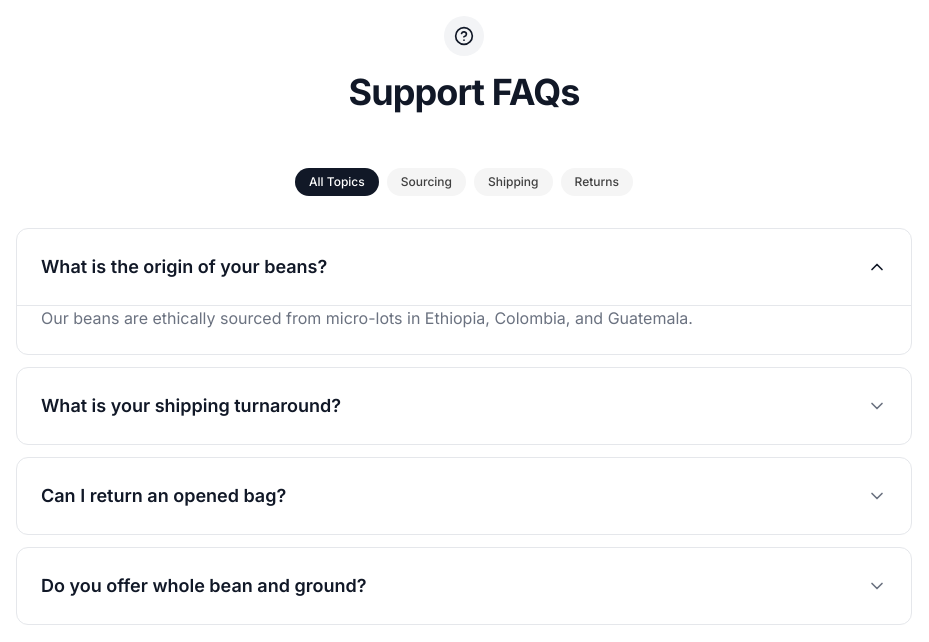
Test: Adversarial Stress Verification: SectionRenderer & Content Interactivity (Challenger M3-2) › FaqAccordion Interactivity & Keyboard Stress › single-open mode: index 0 open by default, clicking item 1 expands it and collapses item 0
Click the button "What is your shipping turnaround?".
click(191, 406)  # box x1=17 y1=368 x2=911 y2=444
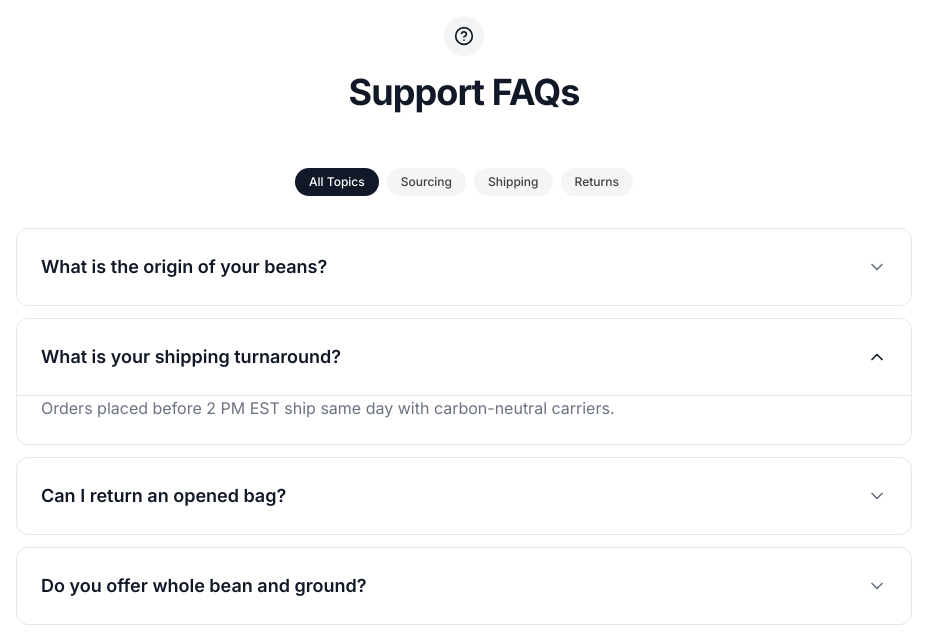
Result: the button "What is the origin of your beans?" is collapsed at x1=17 y1=229 x2=911 y2=305
Result: the button "What is your shipping turnaround?" is expanded
Click the button "What is your shipping turnaround?".
click(191, 356)  # box x1=17 y1=319 x2=911 y2=395
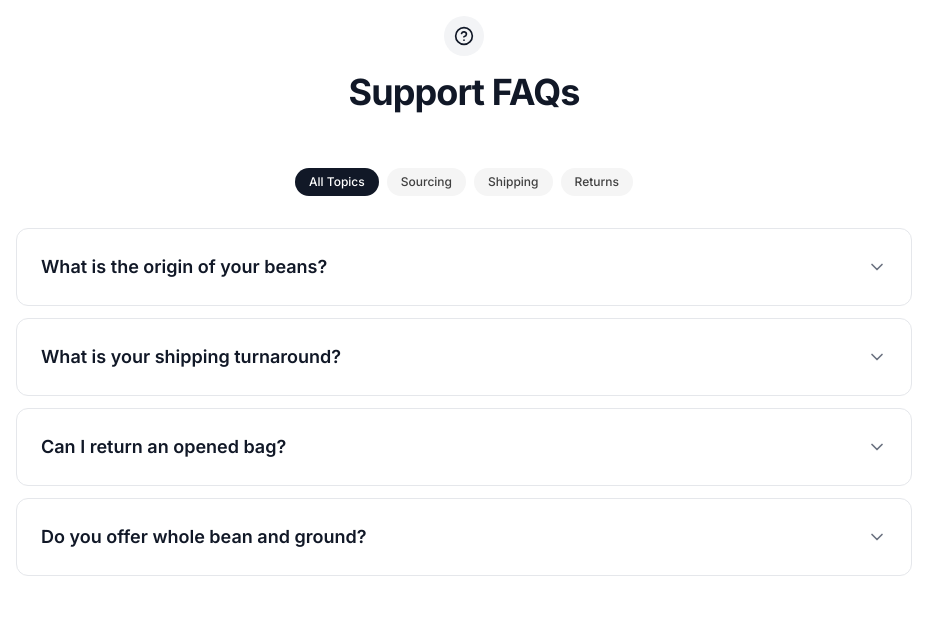
Result: the button "What is the origin of your beans?" is collapsed at x1=17 y1=229 x2=911 y2=305
Result: the button "What is your shipping turnaround?" is collapsed at x1=17 y1=319 x2=911 y2=395
